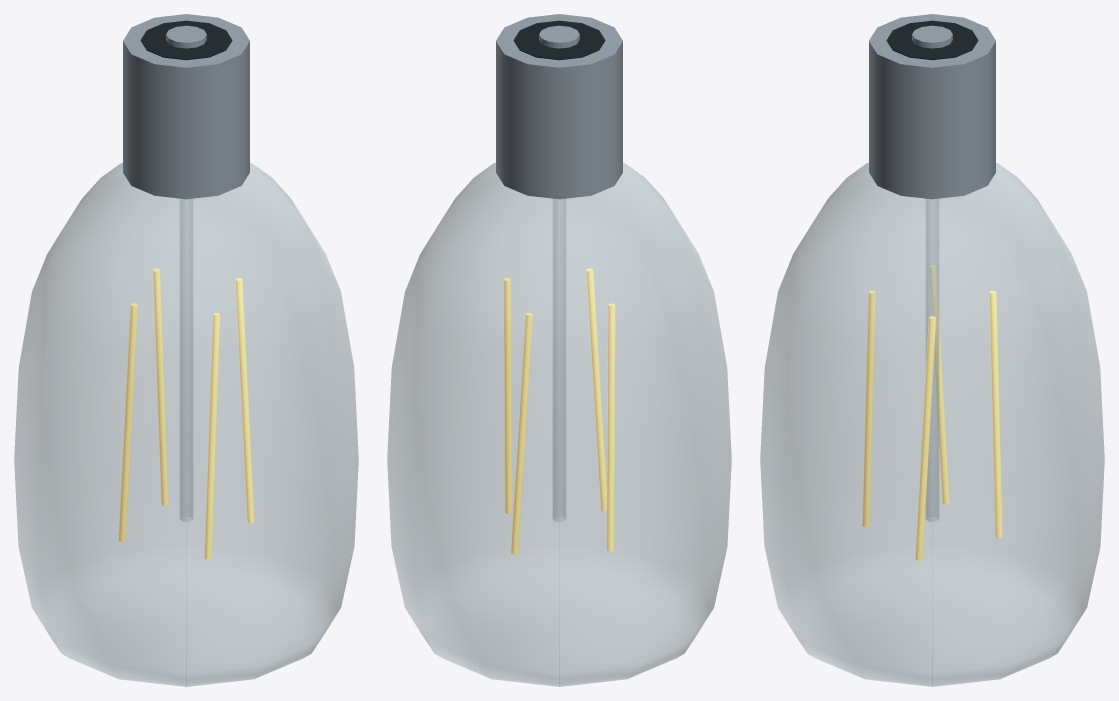
File: source.glb
3 views of the same model, side by side, from view 1: azimuth 30°, elevation 25°; view 2: azimuth 150°, elevation 25°; view 3: azimuth 270°, elevation 25° (orthographic).
Parts seen in each view (by area): view 1: 光学透明件, 机加工金属, Emitters, 密封及绝缘件; view 2: 光学透明件, 机加工金属, Emitters, 密封及绝缘件; view 3: 光学透明件, 机加工金属, Emitters, 密封及绝缘件.
Part boxes in pixels (x1,y1,x2,y2): 光学透明件: [14, 163, 358, 686]; 机加工金属: [123, 14, 249, 199]; Emitters: [118, 268, 254, 559]; 密封及绝缘件: [140, 20, 232, 60]; 光学透明件: [387, 163, 731, 686]; 机加工金属: [496, 14, 622, 199]; Emitters: [503, 268, 615, 554]; 密封及绝缘件: [513, 20, 605, 60]; 光学透明件: [760, 163, 1104, 686]; 机加工金属: [869, 14, 995, 199]; Emitters: [862, 265, 1002, 560]; 密封及绝缘件: [886, 20, 978, 60].
Bounding box in the file's own units: 0.0731 × 0.1422 × 0.0731.
